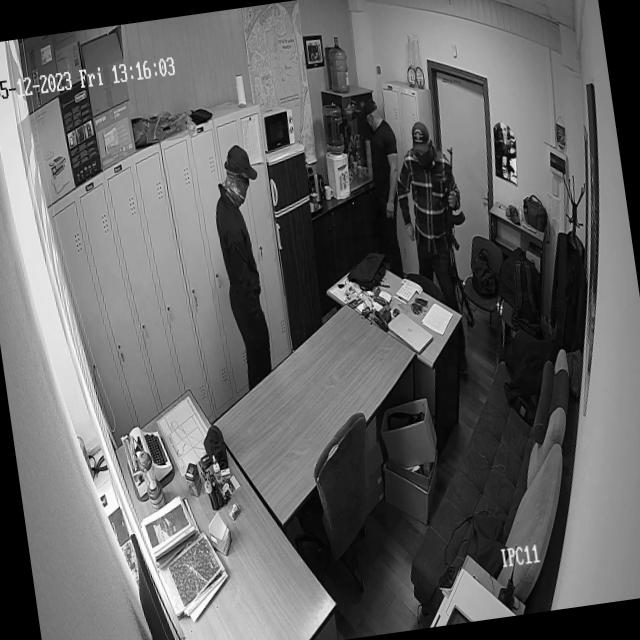gun: (430, 144, 475, 282)
person: (209, 150, 285, 396), (353, 84, 412, 272)
person with a gun: (390, 112, 480, 320)
